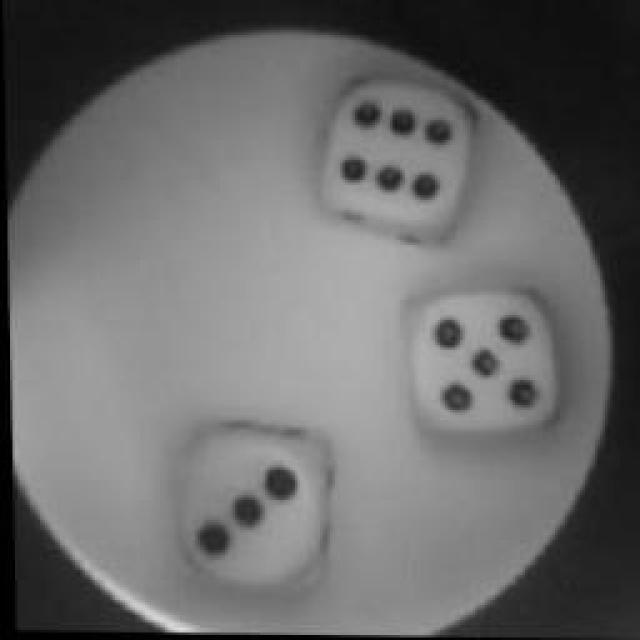dice_3: (152, 418, 342, 602)
dice_5: (395, 274, 560, 454)
dice_6: (305, 70, 483, 248)
